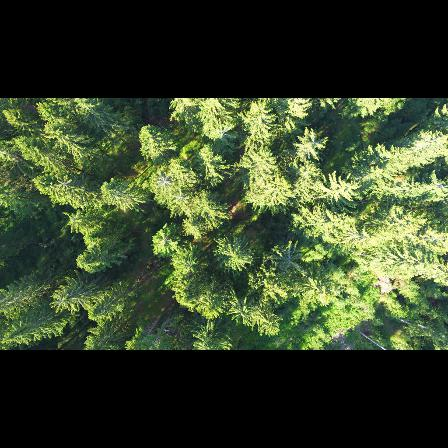Sick: (274, 240, 306, 277), (153, 173, 175, 190), (173, 189, 192, 206)
